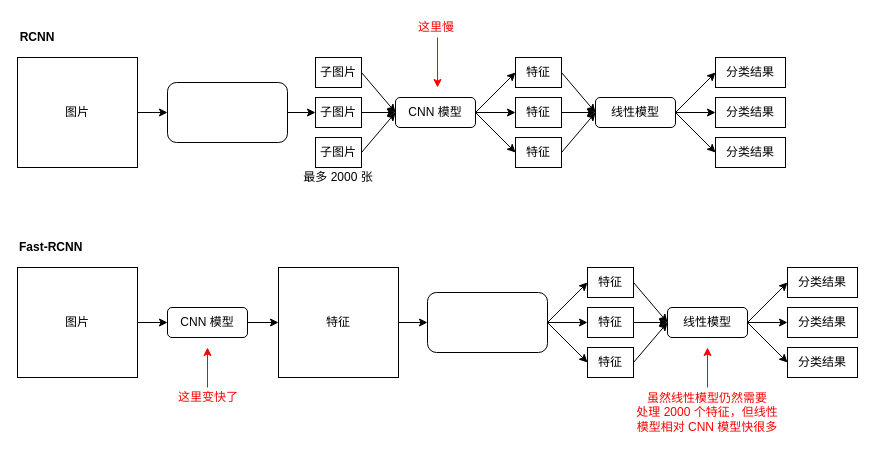
The diagram is 875 pixels wide and 454 high, and some of its shapes have lost their labels. Here are the shapes that lost their labels. From the top down, the centre of each, then its label:
At [227,112]: "根据可能包含对象 的区域截取子图片 并缩放到相同大小".
At [487,322]: "根据可能包含对象 的区域截取子特征 并缩放到相同大小".
